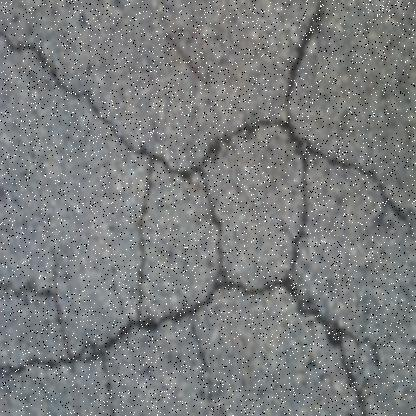Cracks: (0, 0, 415, 282), (0, 272, 374, 415)
